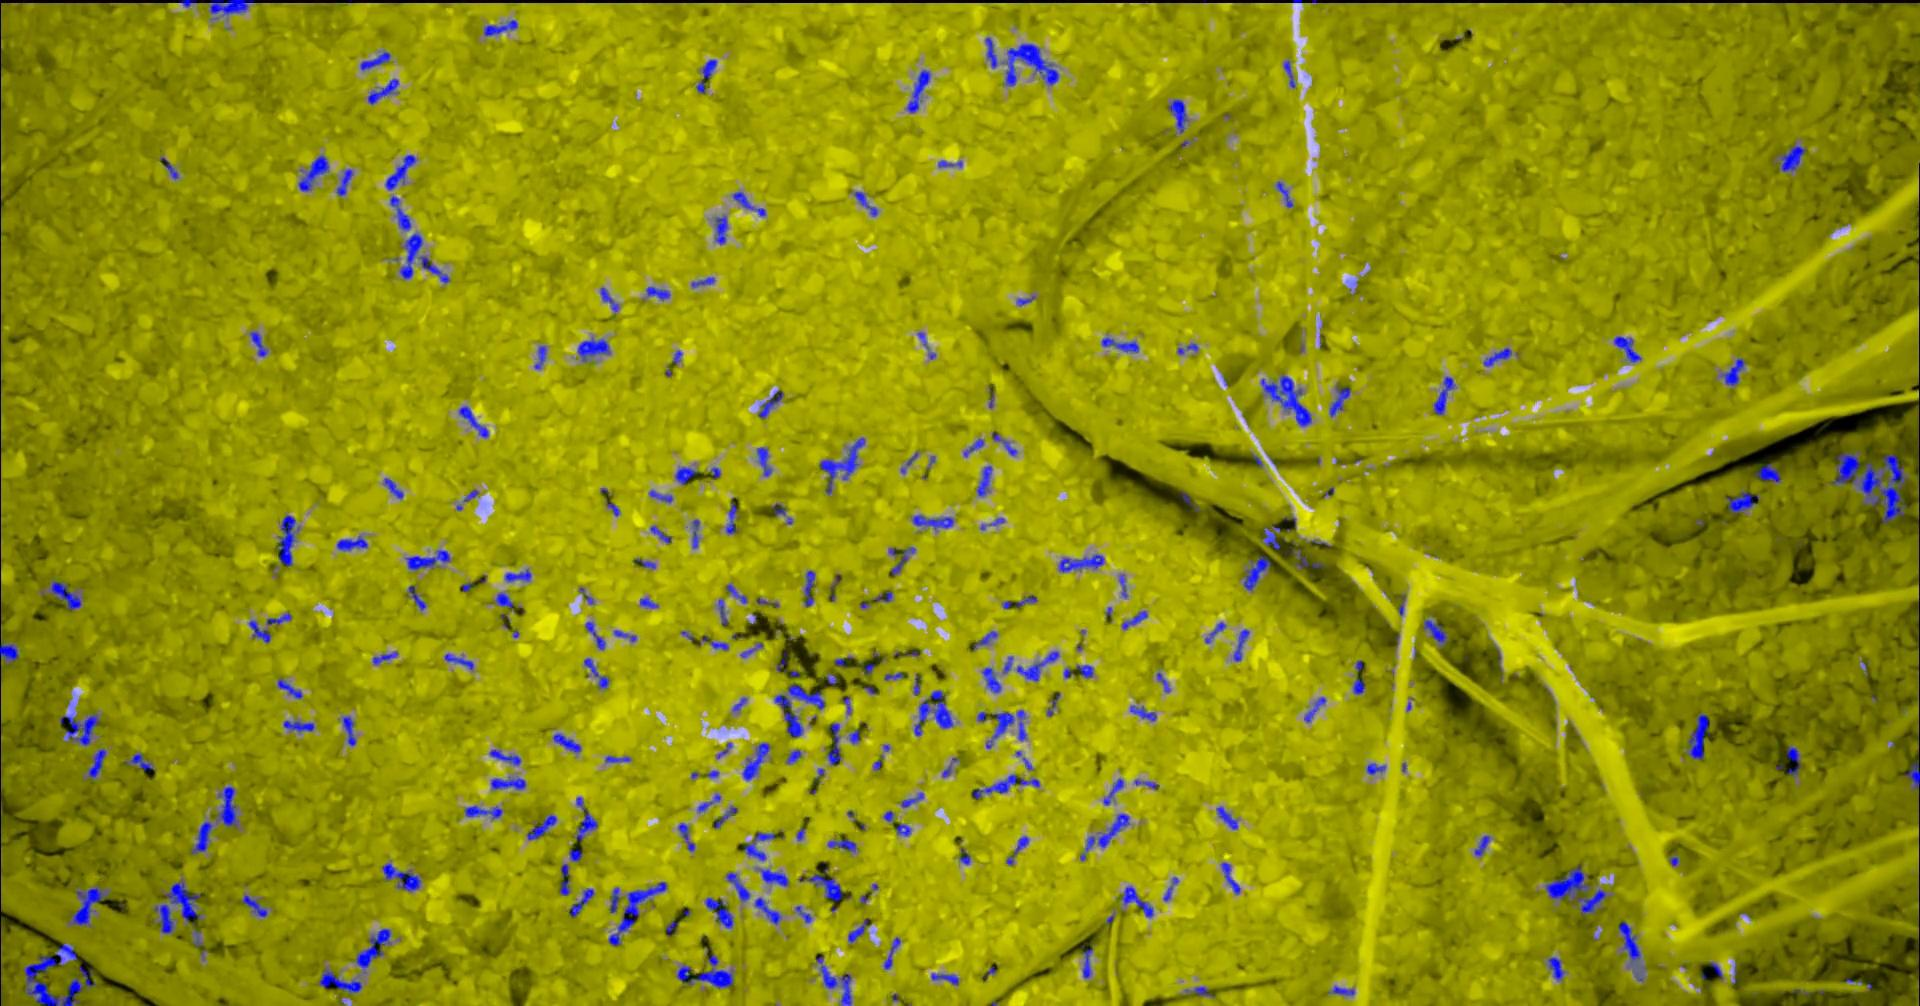ant: (608, 882, 665, 945), (163, 879, 202, 946), (399, 232, 450, 283), (1260, 375, 1310, 426), (819, 437, 863, 494), (1079, 813, 1129, 860), (1004, 43, 1058, 85), (676, 953, 733, 988), (913, 690, 952, 735), (815, 955, 851, 1005), (971, 774, 1039, 798), (985, 709, 1026, 748), (356, 929, 390, 973), (71, 885, 105, 925), (58, 713, 98, 746), (775, 683, 824, 709), (797, 873, 842, 901), (1016, 652, 1058, 681), (277, 514, 298, 567), (385, 154, 415, 191), (742, 742, 770, 780), (382, 862, 420, 890), (905, 69, 930, 112), (1617, 921, 1641, 964), (298, 155, 328, 191), (1688, 713, 1709, 760), (1120, 887, 1153, 917), (1243, 555, 1271, 589), (575, 796, 597, 840), (458, 405, 488, 437), (743, 831, 775, 860), (319, 970, 361, 992), (405, 549, 450, 569), (1284, 545, 1323, 568), (50, 580, 80, 608), (705, 897, 731, 929), (731, 191, 764, 216), (1432, 376, 1454, 414), (367, 77, 397, 104), (1058, 554, 1103, 572), (583, 657, 608, 688), (217, 786, 237, 826), (577, 337, 610, 361), (1724, 490, 1759, 513), (526, 814, 556, 840), (753, 897, 781, 923), (757, 389, 782, 418), (695, 58, 716, 93), (389, 196, 410, 230), (190, 821, 212, 854), (1780, 144, 1806, 171), (1613, 337, 1641, 362), (890, 547, 916, 575), (1423, 619, 1448, 647), (569, 888, 593, 916), (1167, 99, 1187, 132), (1006, 836, 1029, 865), (1330, 385, 1350, 417), (1721, 358, 1745, 385), (1903, 760, 1919, 801), (726, 873, 749, 901), (210, 0, 254, 14), (1220, 862, 1239, 894), (152, 904, 173, 934), (359, 51, 390, 70), (855, 191, 877, 216), (990, 432, 1016, 455), (912, 514, 952, 528), (827, 723, 841, 763), (483, 19, 517, 36), (883, 937, 900, 969), (1101, 337, 1138, 352), (1303, 696, 1324, 721), (88, 748, 105, 779), (758, 868, 789, 885), (1483, 347, 1511, 366), (585, 621, 604, 649), (552, 733, 580, 752), (463, 805, 502, 819), (277, 678, 302, 699), (241, 895, 267, 916), (1103, 779, 1123, 805), (1754, 464, 1782, 481), (1001, 594, 1036, 608), (248, 620, 270, 641), (847, 920, 869, 942), (712, 807, 737, 827), (1121, 610, 1147, 629), (1233, 629, 1248, 661), (982, 667, 1001, 692), (489, 749, 521, 765), (124, 753, 154, 770), (678, 822, 695, 851), (1275, 180, 1293, 207), (1204, 621, 1225, 643), (337, 535, 367, 550), (1217, 807, 1237, 829), (444, 653, 472, 669), (599, 287, 618, 311), (1261, 525, 1280, 549), (783, 713, 803, 737), (971, 631, 997, 649), (756, 447, 771, 476), (1785, 746, 1801, 775), (159, 156, 178, 179), (490, 776, 524, 789), (697, 793, 720, 812), (249, 332, 267, 356), (0, 638, 18, 662), (977, 465, 990, 495), (342, 715, 356, 746), (714, 215, 728, 244), (337, 169, 352, 196), (674, 466, 697, 484), (408, 586, 425, 608), (1129, 705, 1156, 720), (1547, 956, 1564, 979), (984, 37, 997, 69), (383, 478, 403, 498), (1180, 490, 1199, 511), (725, 584, 745, 603), (701, 635, 728, 649), (1081, 945, 1092, 977), (963, 438, 983, 456), (650, 525, 670, 542), (804, 570, 814, 606), (827, 838, 855, 851), (725, 503, 737, 533), (1283, 60, 1295, 86), (559, 862, 569, 895), (265, 611, 291, 624), (372, 652, 397, 664), (283, 720, 314, 730), (1474, 835, 1490, 855), (504, 569, 531, 580), (931, 973, 957, 984), (902, 793, 923, 807), (795, 904, 811, 922), (646, 286, 669, 298), (533, 345, 546, 368), (649, 489, 672, 502), (613, 629, 636, 641), (495, 592, 513, 607), (717, 600, 728, 626), (691, 277, 714, 287), (632, 558, 655, 568), (610, 887, 618, 912), (1328, 986, 1354, 995), (1192, 986, 1214, 996), (872, 589, 891, 601), (786, 749, 801, 763), (858, 662, 875, 674), (1076, 664, 1092, 677), (776, 652, 786, 671), (604, 754, 630, 762), (1366, 763, 1385, 774), (639, 597, 657, 607), (692, 520, 698, 547), (1352, 678, 1364, 694), (895, 823, 910, 835), (957, 848, 969, 864), (569, 848, 582, 861), (937, 160, 961, 166), (850, 729, 858, 743)
